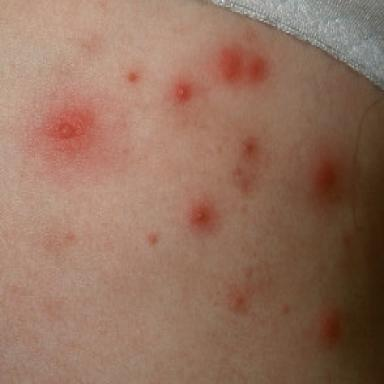acne: (313, 159, 343, 203), (320, 309, 341, 348), (219, 48, 243, 82), (247, 56, 269, 82), (190, 204, 212, 228), (57, 120, 77, 139), (175, 82, 191, 102), (235, 293, 245, 305), (149, 234, 158, 244), (128, 73, 137, 81)
